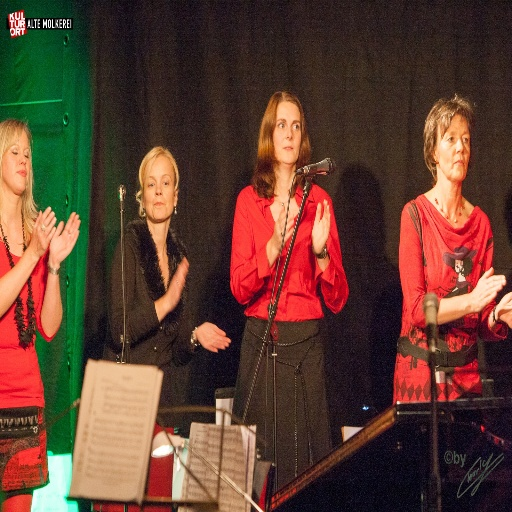hand: (192, 317, 231, 366), (470, 263, 508, 312), (48, 209, 81, 265), (28, 204, 56, 259), (310, 195, 331, 253), (271, 203, 295, 252), (167, 255, 188, 310), (493, 289, 511, 330)
